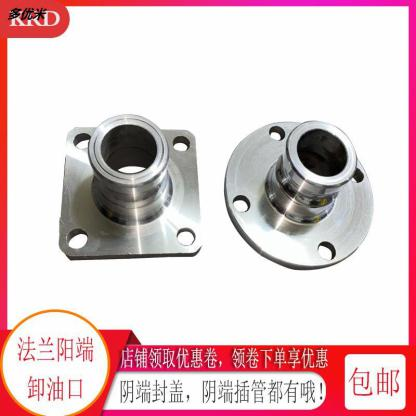FOD: (223, 113, 378, 273), (54, 112, 206, 266)
